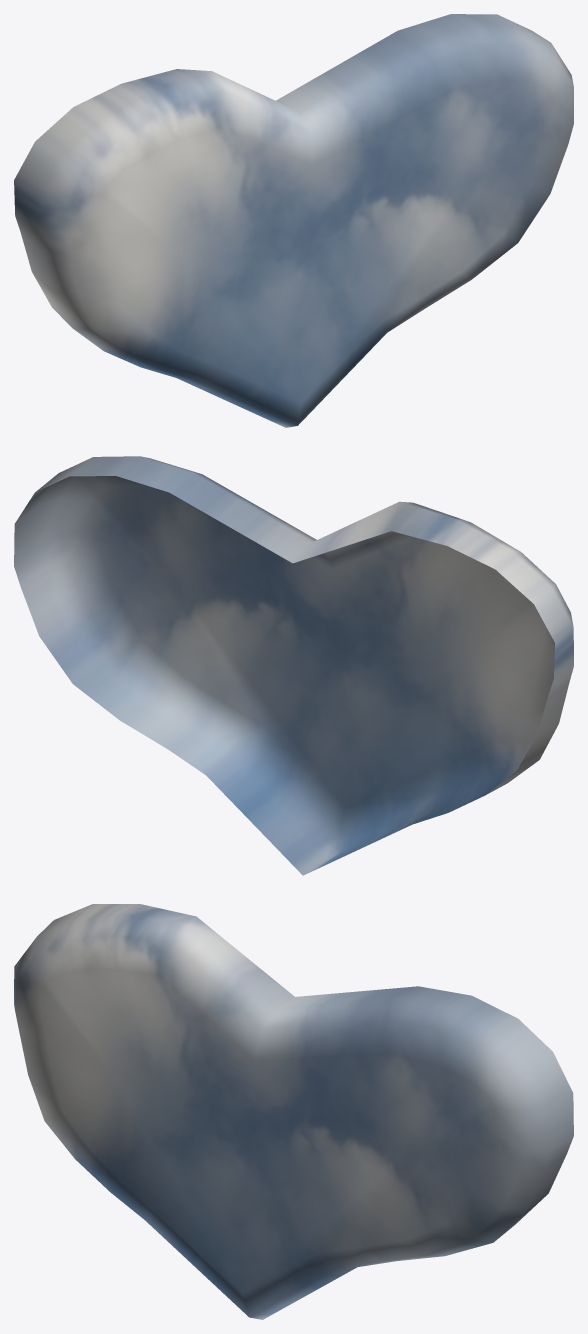
The model's file is G_Background_Cloud.fbx.
3 renders of one model, top to bottom at view 1: azimuth 30°, elevation 25°; view 2: azimuth 150°, elevation 25°; view 3: azimuth 330°, elevation 25°, orthographic.
Visible parts, largest first — view 1: G_Midground_Cloud; view 2: G_Midground_Cloud; view 3: G_Midground_Cloud.
Part boxes in pixels (x1,y1,x2,y2): G_Midground_Cloud: (14,14,573,427); G_Midground_Cloud: (14,456,573,875); G_Midground_Cloud: (14,904,573,1319).
Size of the model in its own units: 2474 by 1645 by 314.
